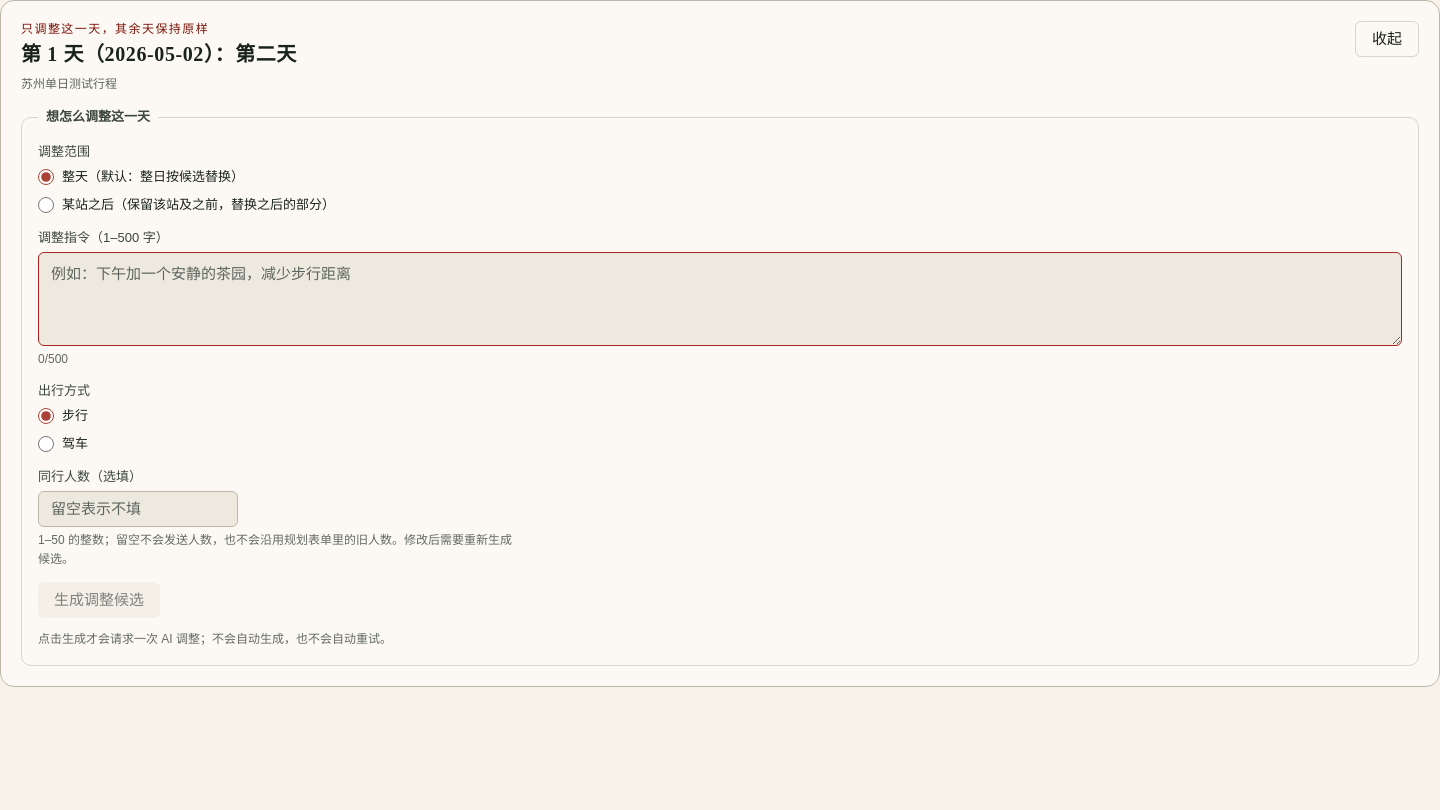
it: DayReplanPanel 后段模式 › 默认整天模式：范围选「整天」、无锚点下拉、生成走旧路径且预览是整天候选
Expected: the radio button labelled "整天（默认：整日按候选替换）" is checked, x1=38 y1=169 x2=54 y2=185
Step 1. Type "整日调整。" into the text box labelled "调整指令（1–500 字）" → (720, 299), box x1=38 y1=252 x2=1402 y2=346
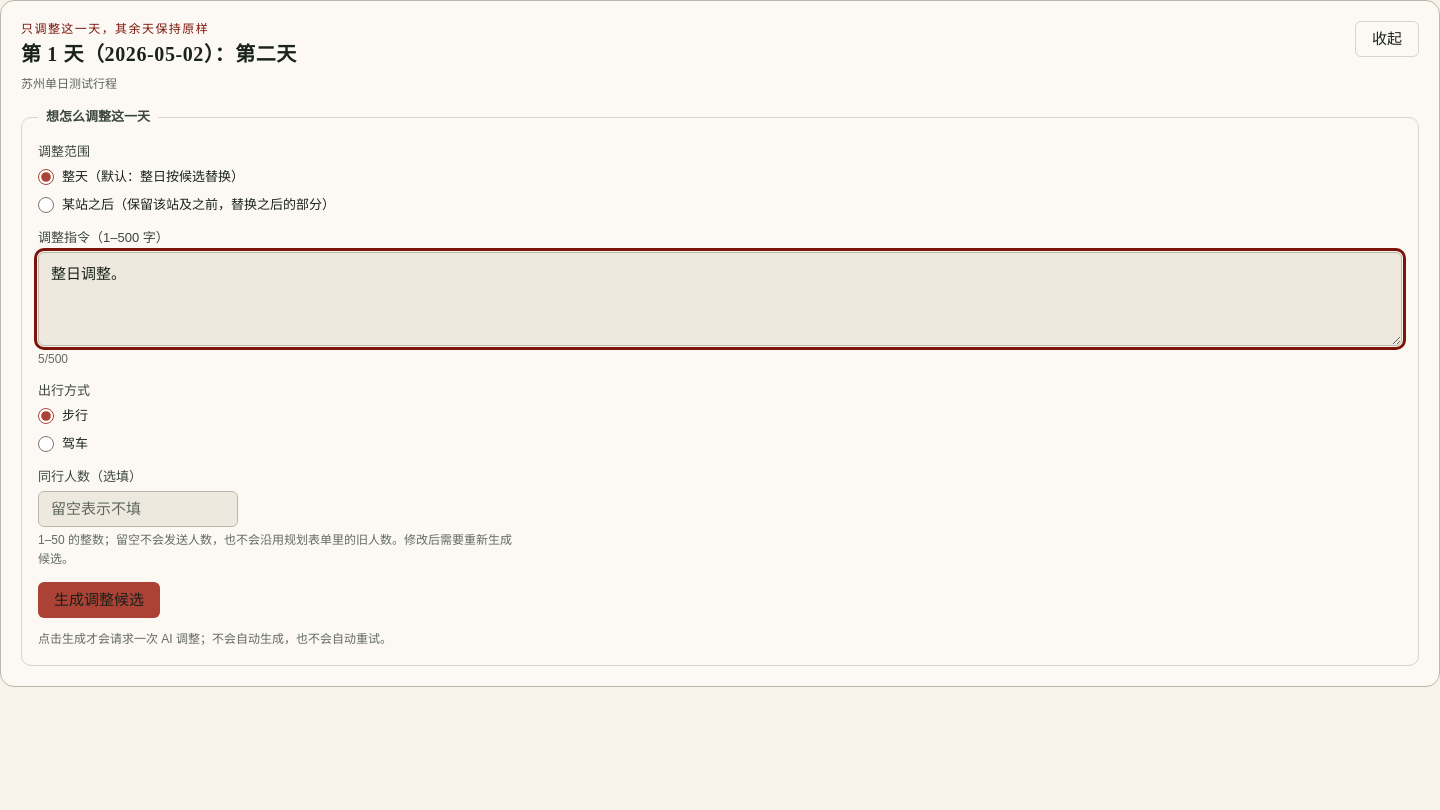
Step 2. Click the button "生成调整候选" → (99, 600), box x1=38 y1=582 x2=160 y2=618
(page scrolled)
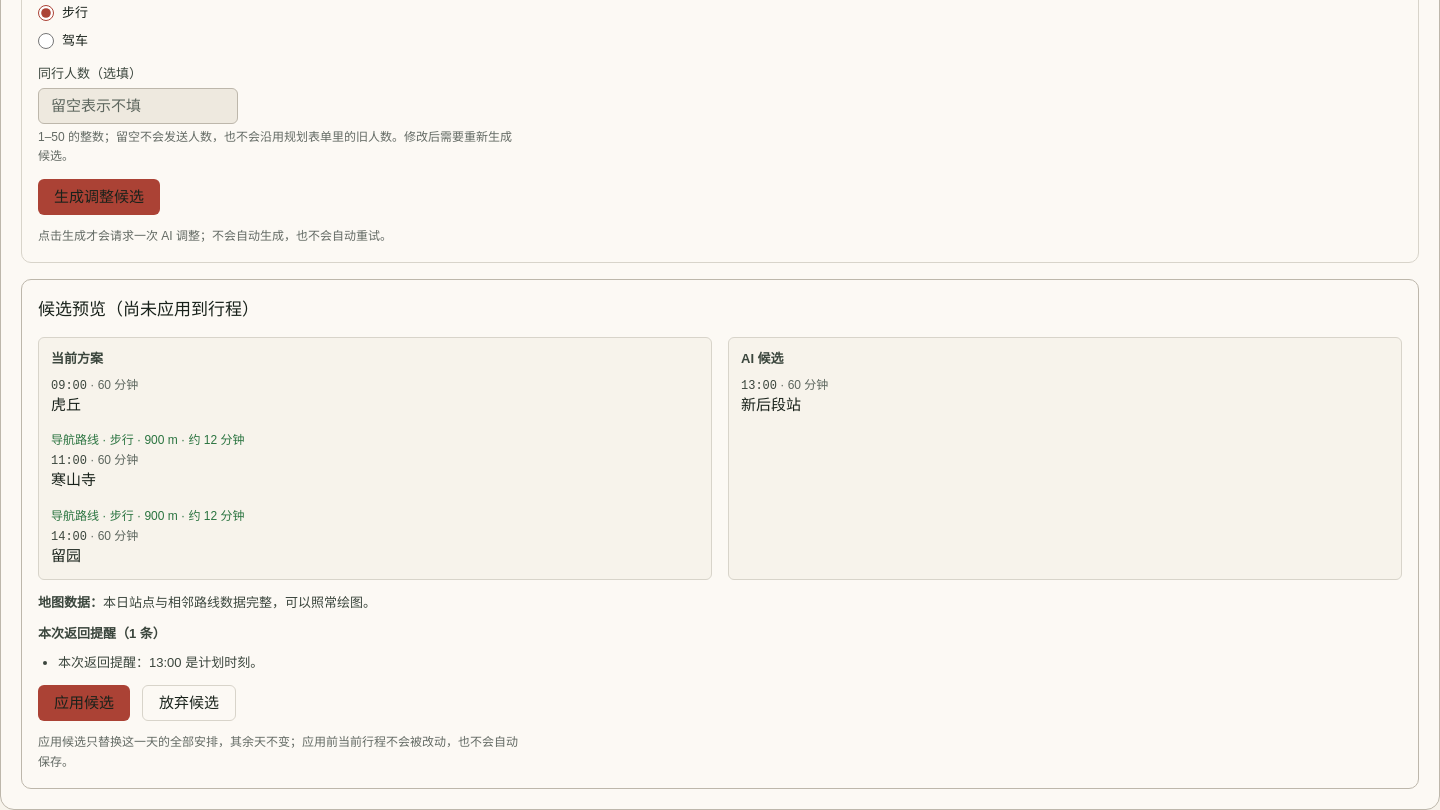
Expected: the heading "候选预览（尚未应用到行程）" is shown, x1=38 y1=300 x2=259 y2=319
Expected: the button "应用候选" is shown, x1=38 y1=685 x2=130 y2=721
